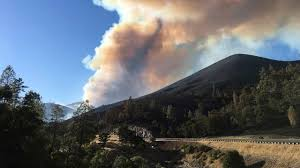smoke: (115, 1, 173, 84)
